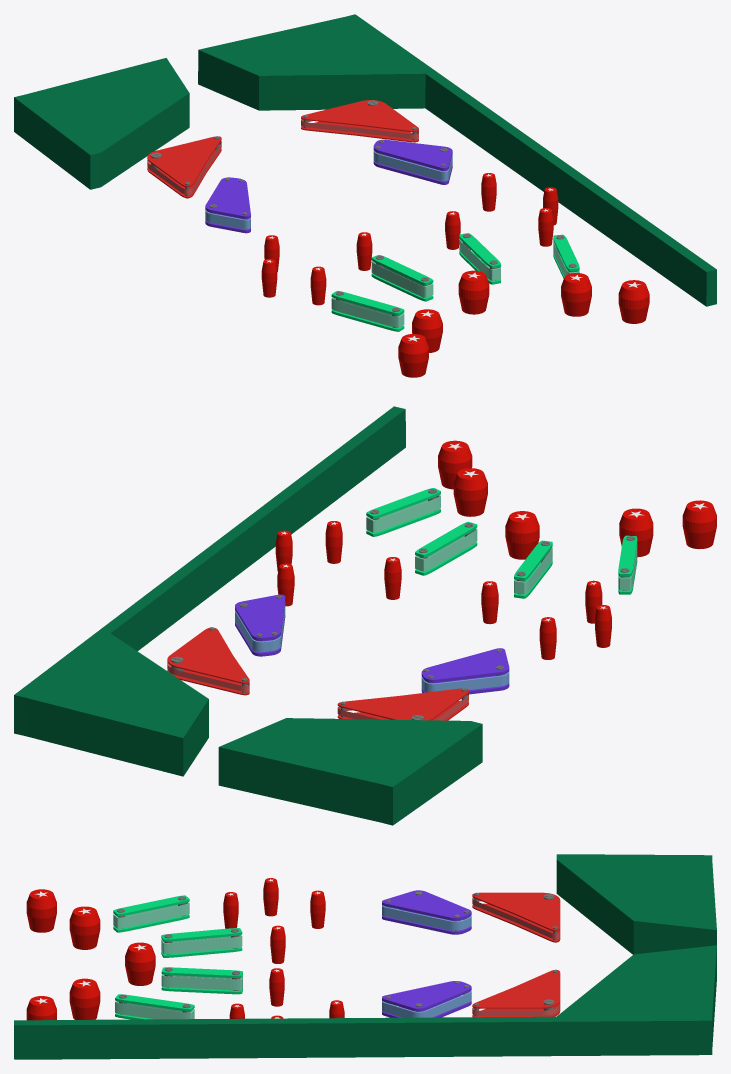
Rendered from Full Game.fbx.
3 views of the same model, one above another, from view 1: azimuth 30°, elevation 25°; view 2: azimuth 150°, elevation 25°; view 3: azimuth 270°, elevation 25° (orthographic). The views are drawn at different scales.
Parts seen in each view (by area): view 1: Cube.003, Cube.004, Cube.001, Cube.002, Cylinder.014, Cylinder.013, Cylinder.016, Cylinder.015, Cylinder.018, Cylinder.010, Cylinder.004, Cylinder.012 (+3 smaller); view 2: Cube.003, Cube.004, Cube.001, Cube.002, Cylinder.013, Cylinder.014, Cylinder.017, Cylinder.018, Cylinder.009, Cylinder.012, Cylinder.010, Cylinder.015 (+8 smaller); view 3: Cube.003, Cube.004, Cube.002, Cylinder.013, Cube.001, Cylinder.014, Cylinder.018, Cylinder.015, Cylinder.016, Cylinder.017, Cylinder.011, Cylinder.012 (+8 smaller).
Boxes of the visible parts, left/top/right/bottom form: Cube.003: left=198, top=14, right=716, bottom=306; Cube.004: left=14, top=58, right=189, bottom=189; Cube.001: left=301, top=100, right=418, bottom=142; Cube.002: left=147, top=136, right=221, bottom=198; Cylinder.014: left=373, top=139, right=452, bottom=184; Cylinder.013: left=205, top=177, right=250, bottom=233; Cylinder.016: left=331, top=291, right=404, bottom=331; Cylinder.015: left=371, top=255, right=433, bottom=301; Cylinder.018: left=459, top=233, right=500, bottom=284; Cylinder.010: left=458, top=270, right=489, bottom=314; Cylinder.004: left=618, top=280, right=649, bottom=323; Cylinder.012: left=398, top=334, right=428, bottom=377; Cube.003: left=14, top=406, right=405, bottom=776; Cube.004: left=218, top=718, right=482, bottom=825; Cube.001: left=167, top=627, right=249, bottom=695; Cube.002: left=337, top=688, right=468, bottom=720; Cylinder.013: left=421, top=648, right=509, bottom=694; Cylinder.014: left=235, top=594, right=285, bottom=656; Cylinder.017: left=366, top=488, right=440, bottom=536; Cylinder.018: left=415, top=521, right=477, bottom=575; Cylinder.009: left=453, top=468, right=487, bottom=516; Cylinder.012: left=682, top=500, right=716, bottom=549; Cylinder.010: left=505, top=511, right=539, bottom=559; Cylinder.015: left=514, top=540, right=552, bottom=598; Cube.003: left=14, top=945, right=716, bottom=1059; Cube.004: left=556, top=854, right=716, bottom=954; Cube.002: left=472, top=892, right=560, bottom=942; Cylinder.013: left=382, top=890, right=471, bottom=934; Cube.001: left=472, top=969, right=560, bottom=1017; Cylinder.014: left=382, top=981, right=471, bottom=1017; Cylinder.018: left=161, top=967, right=242, bottom=994; Cylinder.015: left=161, top=928, right=242, bottom=957; Cylinder.016: left=113, top=895, right=189, bottom=932; Cylinder.017: left=115, top=994, right=194, bottom=1019; Cylinder.011: left=69, top=906, right=100, bottom=949; Cylinder.012: left=26, top=889, right=56, bottom=932.
Bounding box in the file's own units: 3359 × 393 × 5837.
